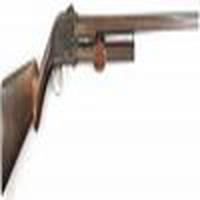gun: (1, 11, 199, 185)
